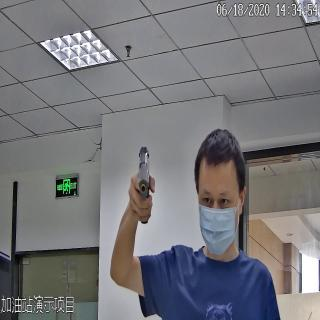gun: (134, 144, 156, 227)
